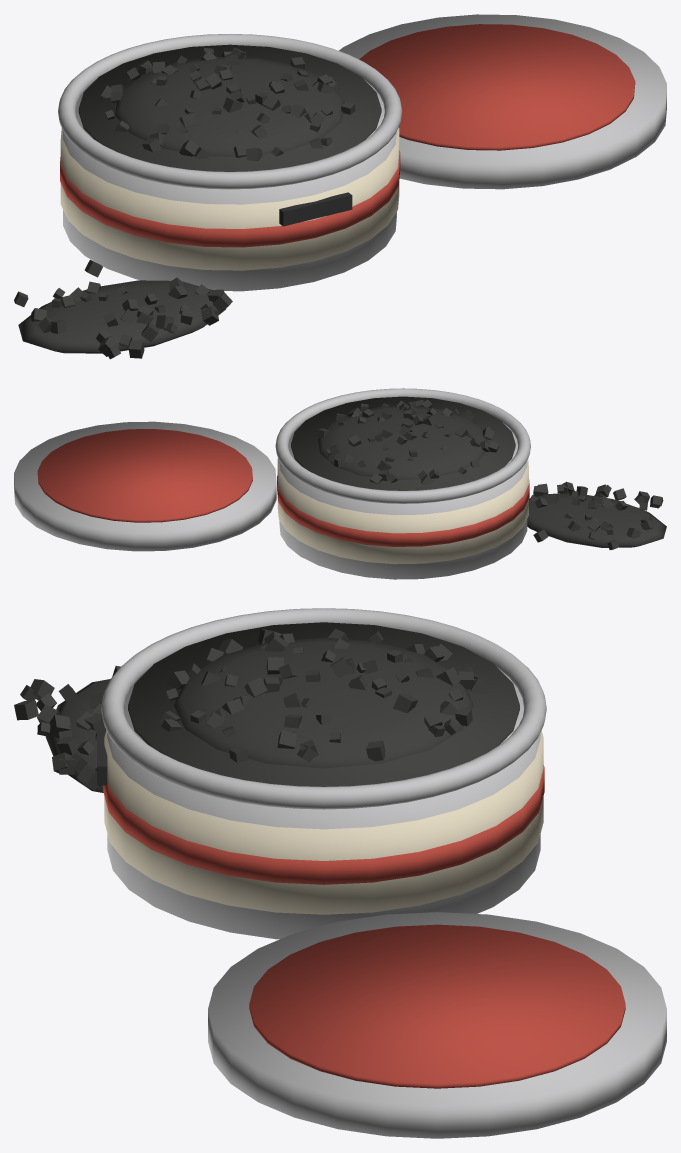
Rendered from Item_gunpowder.fbx.
3 views of the same model, one above another, from view 1: azimuth 30°, elevation 25°; view 2: azimuth 150°, elevation 25°; view 3: azimuth 270°, elevation 25° (orthographic). The views are drawn at different scales.
Parts seen in each view (by area): view 1: model.019; view 2: model.019; view 3: model.019.
Part boxes in pixels (x1,y1,x2,y2): model.019: [14, 14, 666, 359]; model.019: [14, 388, 666, 579]; model.019: [14, 608, 666, 1138].
Size of the model in its own units: 0.2133 by 0.0436 by 0.1266.
